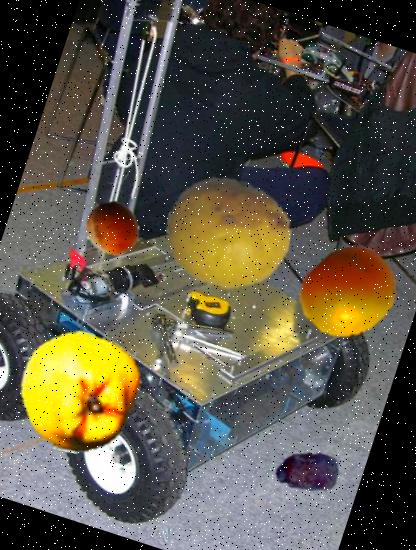Cherry: (286, 230, 412, 356)
Dates: (266, 430, 347, 511)
Lemon: (150, 155, 306, 311)
Nut: (78, 195, 146, 262)
Quince: (3, 316, 155, 468)
